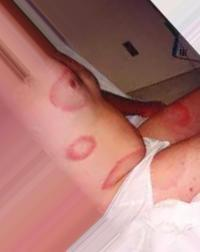Tick: (96, 140, 150, 194), (47, 72, 83, 109), (64, 131, 99, 164), (160, 104, 190, 125)
